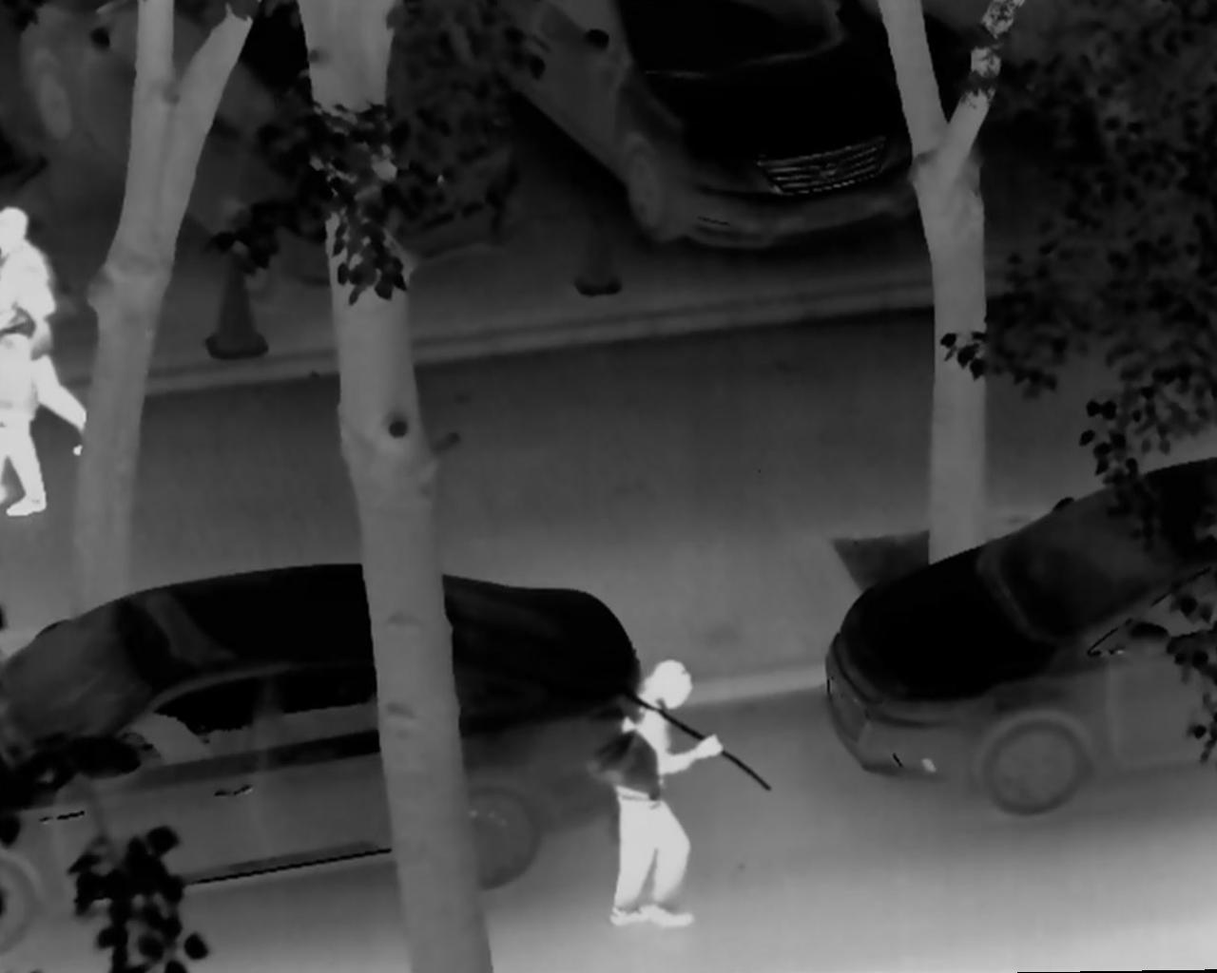person: (609, 646, 724, 928)
